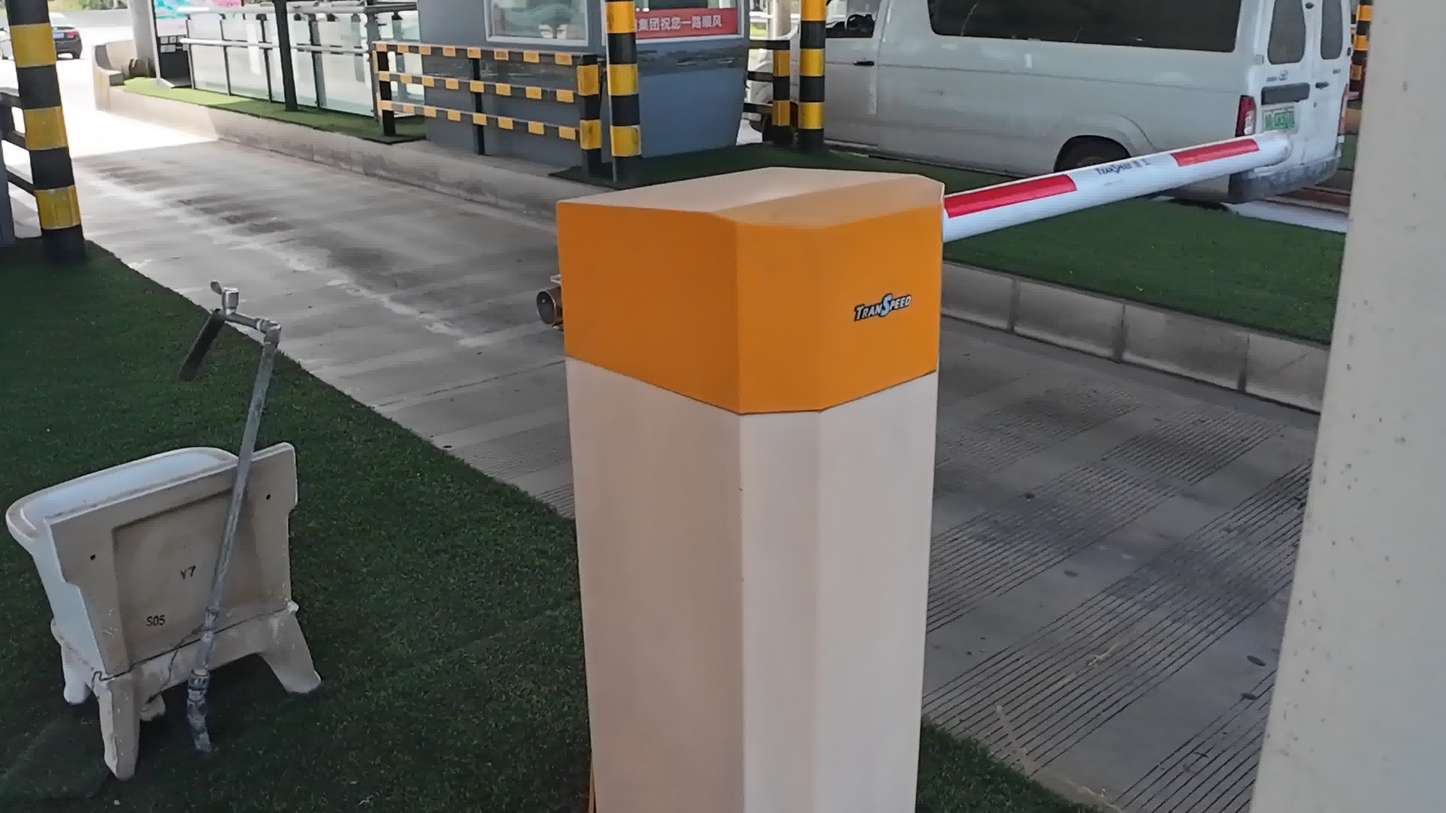toll_booth: (401, 3, 752, 167)
warning_sign: (931, 115, 1294, 261)
